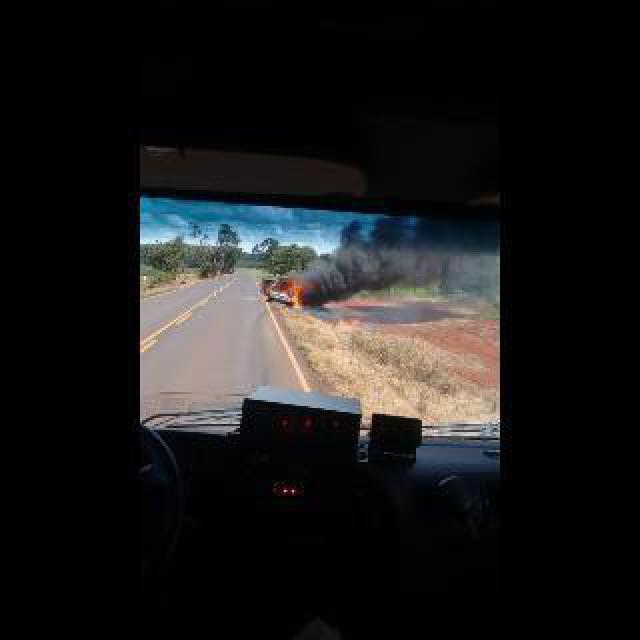Fire: (292, 282, 308, 308), (264, 284, 276, 292), (348, 318, 362, 324)
Smoke: (298, 220, 476, 308)
